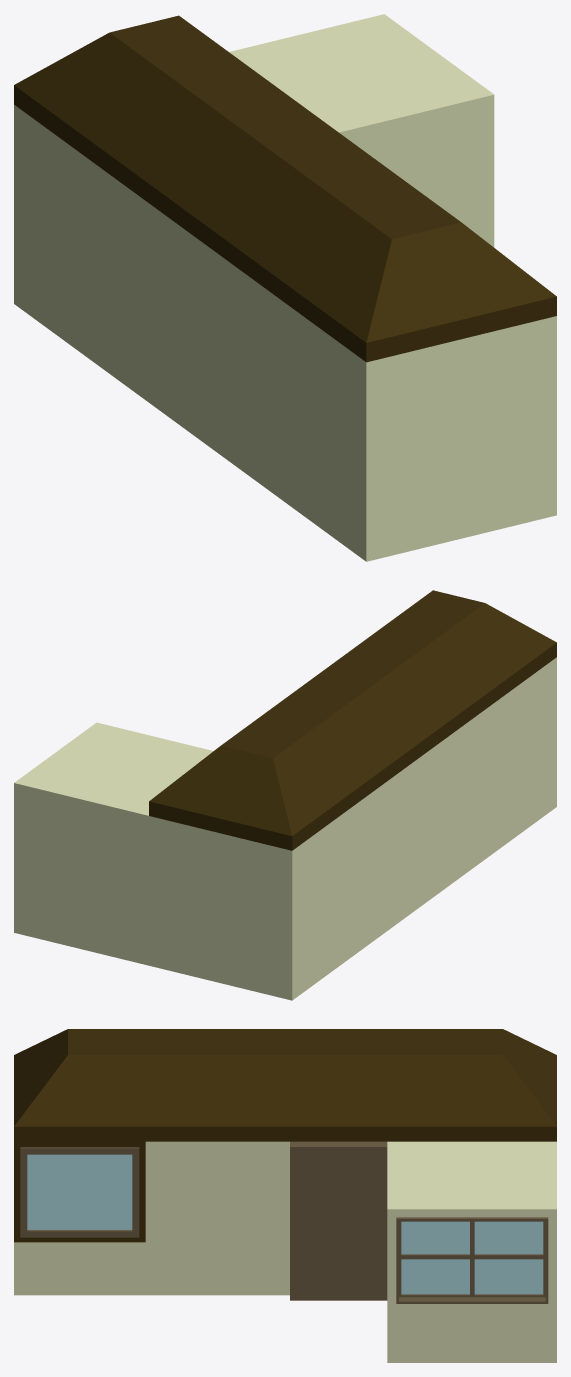
Rendered from Gouse White.fbx.
3 views of the same model, one above another, from view 1: azimuth 30°, elevation 25°; view 2: azimuth 150°, elevation 25°; view 3: azimuth 270°, elevation 25° (orthographic). The views are drawn at different scales.
Visible parts, largest first — view 1: Cube; view 2: Cube; view 3: Cube.
Boxes of the visible parts, x1,y1,x2,y2 form: Cube: (14,14,556,561); Cube: (14,590,556,1000); Cube: (14,1029,556,1362).
Size of the model in its own units: 7607 by 5464 by 12368.
